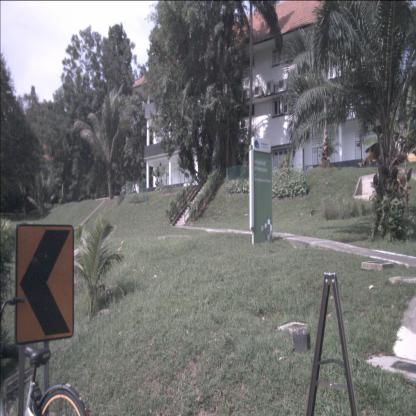vehicle-bicycle: (0, 296, 91, 415)
